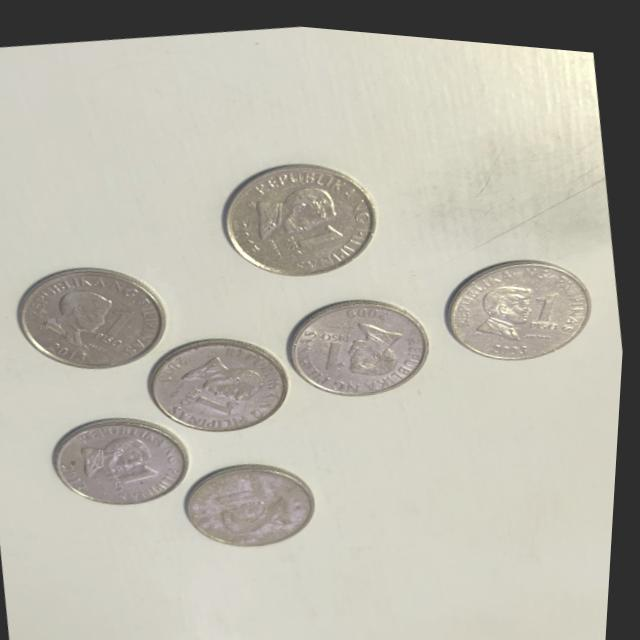1_Old_Front: (267, 206, 353, 255), (305, 306, 370, 368), (205, 465, 275, 515), (179, 367, 245, 420), (100, 448, 172, 493), (521, 269, 573, 327), (88, 298, 139, 354)
